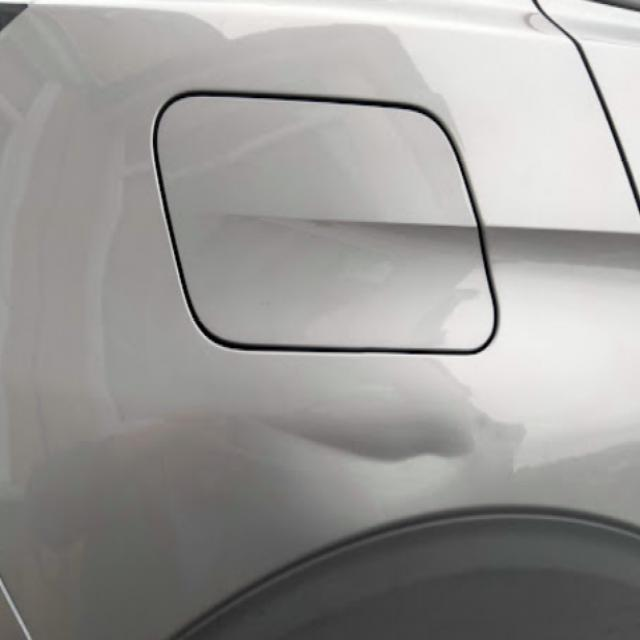dents: (259, 382, 498, 509)
